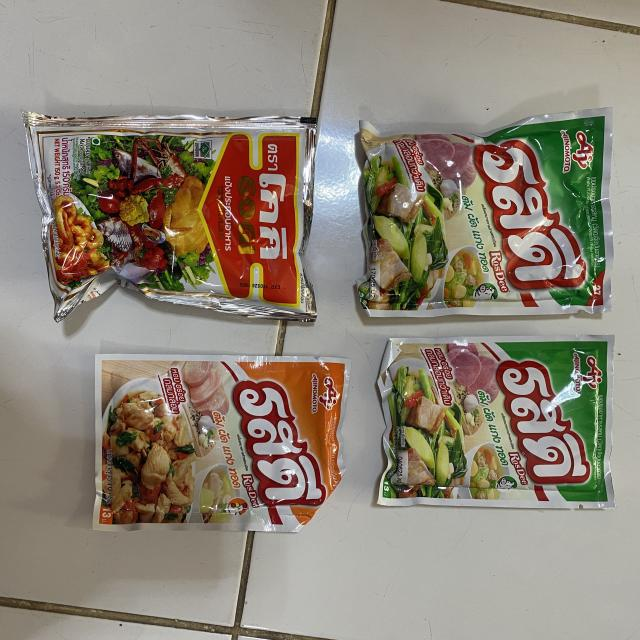plastik: (24, 112, 316, 321), (359, 109, 612, 316), (92, 355, 350, 531), (378, 335, 615, 509)
